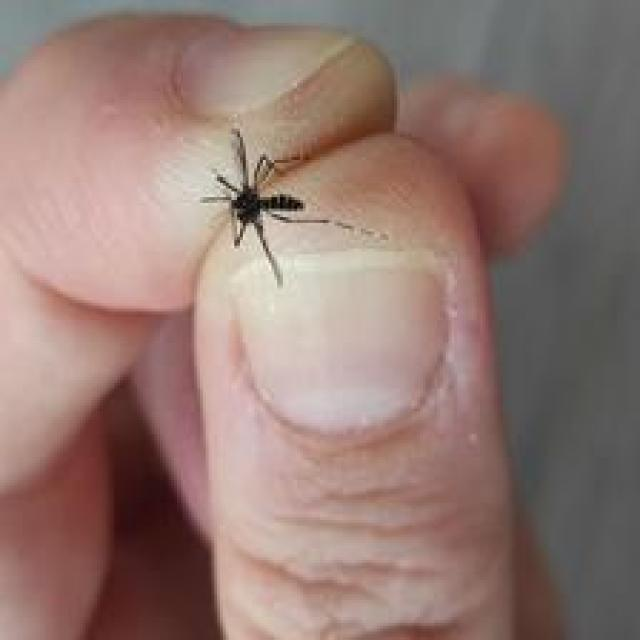Aedes albopictus: (199, 125, 390, 288)
